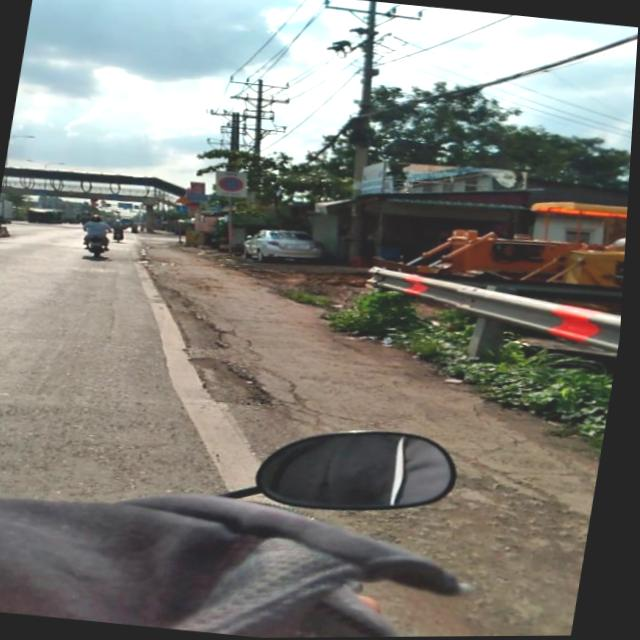Cam dung xe va do xe: (219, 176, 247, 194)
